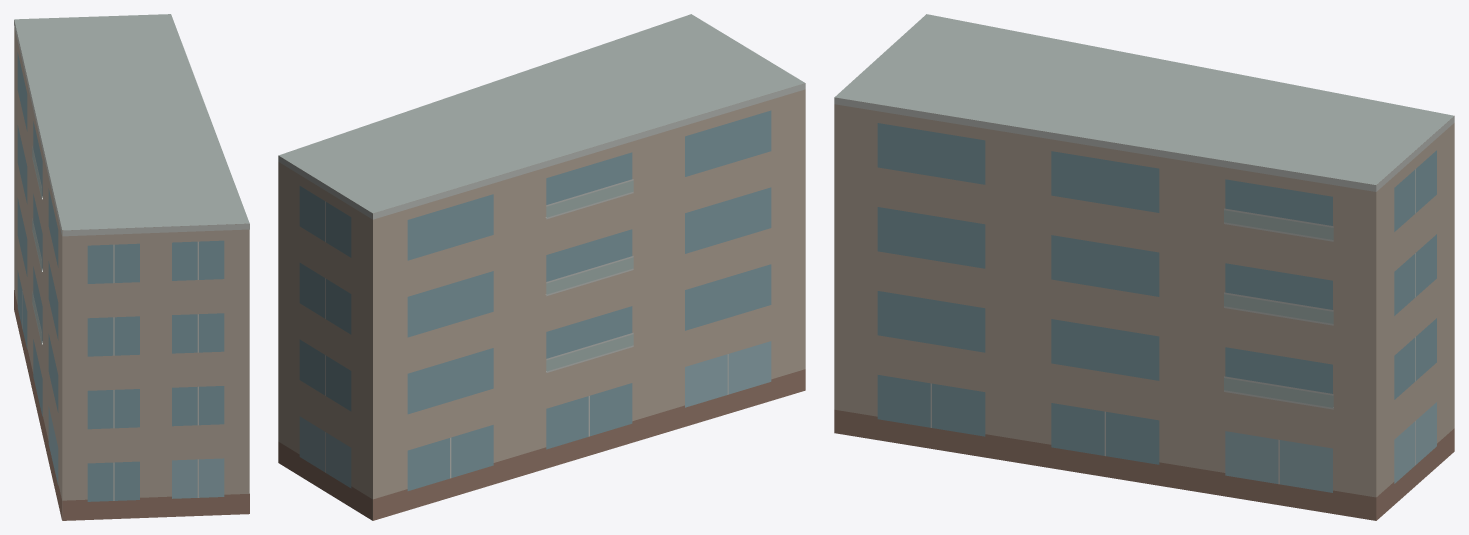
The model's file is survey-upis-32633247.glb.
3 renders of one model, left to right at view 1: azimuth 30°, elevation 25°; view 2: azimuth 150°, elevation 25°; view 3: azimuth 270°, elevation 25°, orthographic. The views are drawn at different scales.
Visible parts, largest first — view 1: survey-upis-32633247.tmp; view 2: survey-upis-32633247.tmp; view 3: survey-upis-32633247.tmp.
Boxes of the visible parts, x1,y1,x2,y2 form: survey-upis-32633247.tmp: [14, 14, 249, 520]; survey-upis-32633247.tmp: [278, 14, 805, 520]; survey-upis-32633247.tmp: [834, 14, 1454, 520].
Bounding box in the file's own units: 13.07 × 11.95 × 20.02.
